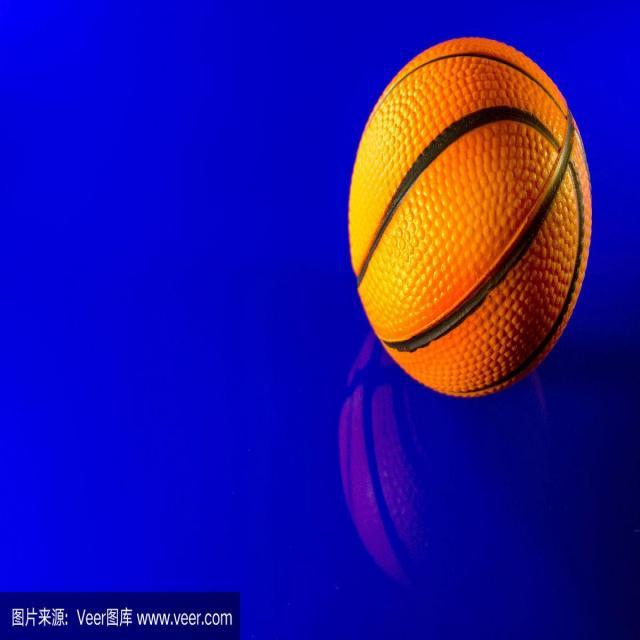rim: (344, 38, 591, 410)
